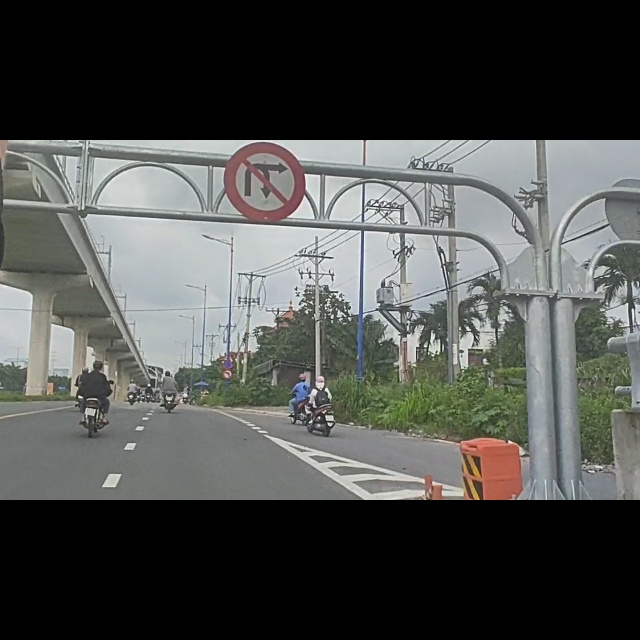bien_cam: (225, 4, 307, 147), (222, 390, 233, 408), (223, 409, 233, 424)
